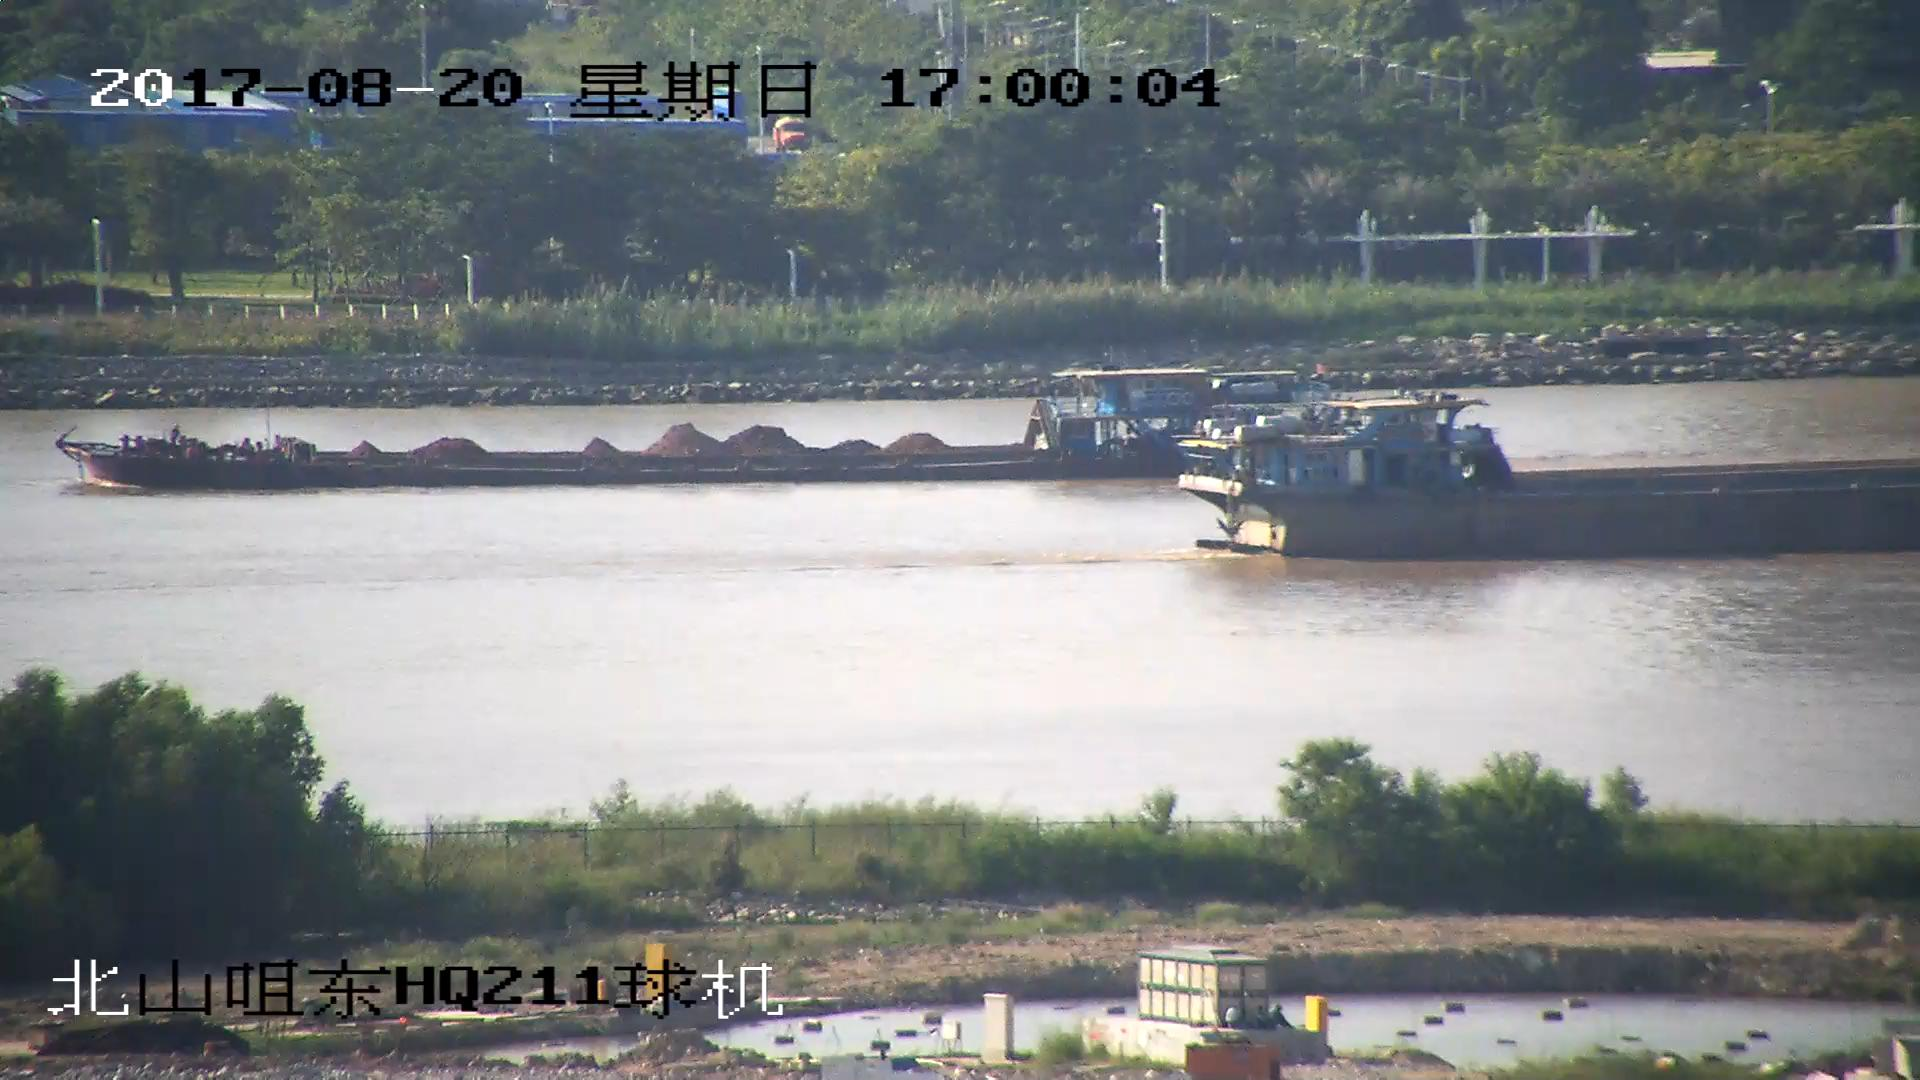bulk cargo carrier: (1174, 399, 1920, 559)
ore carrier: (55, 365, 1321, 497)
